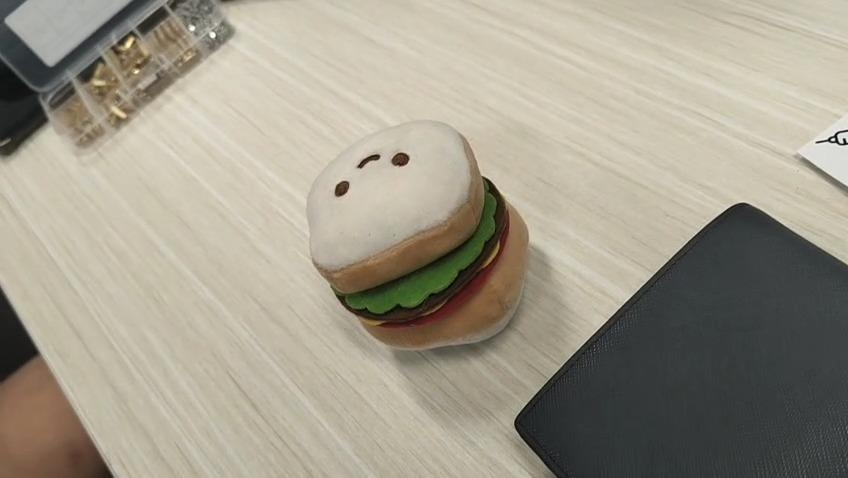objects: (304, 114, 529, 350)
